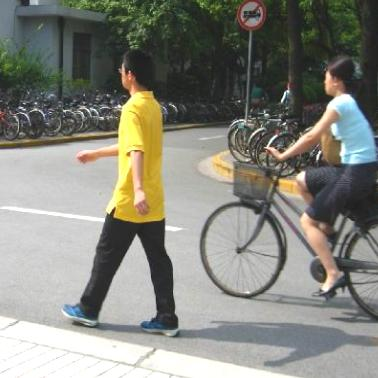ped: (64, 49, 181, 336)
